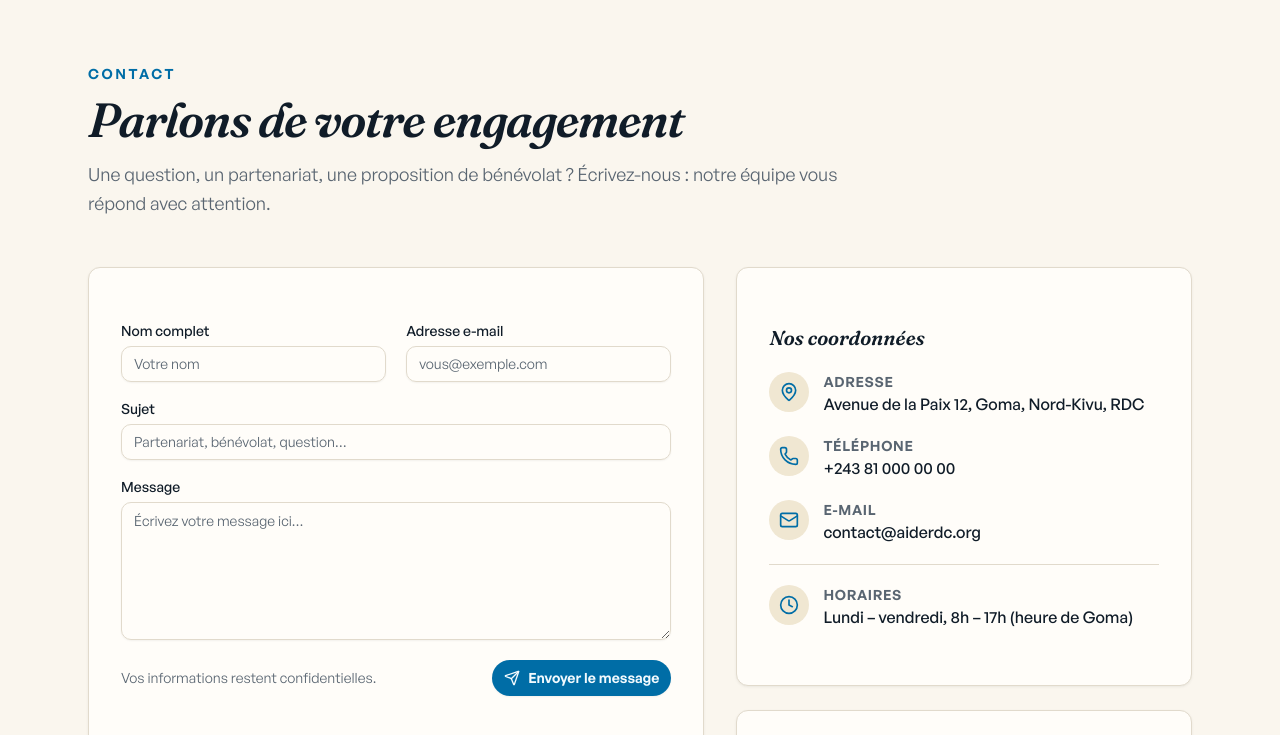
Test: ContactPage › rejects an invalid e-mail address
Type "Ada" into the field with test id "contact.name_input" at [254, 364], box [121,346,386,382]
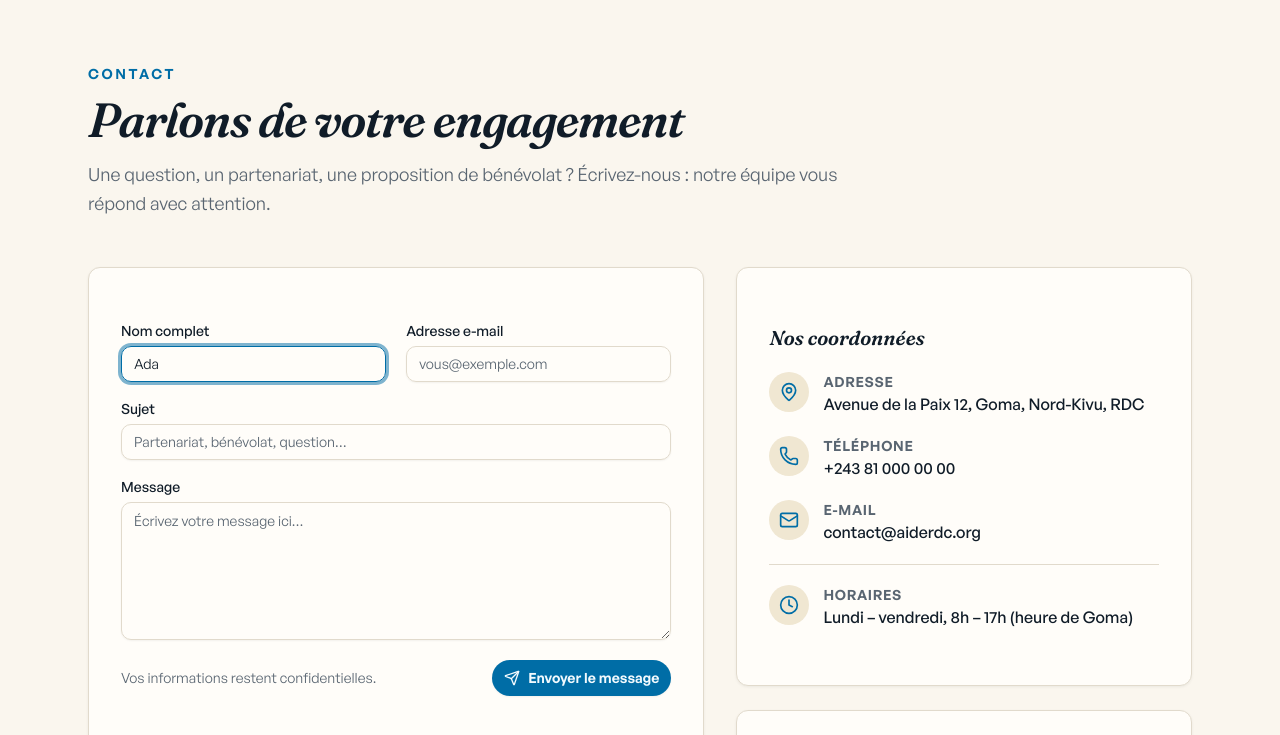
Type "not-an-email" into the field with test id "contact.email_input" at [539, 364], box [406,346,671,382]
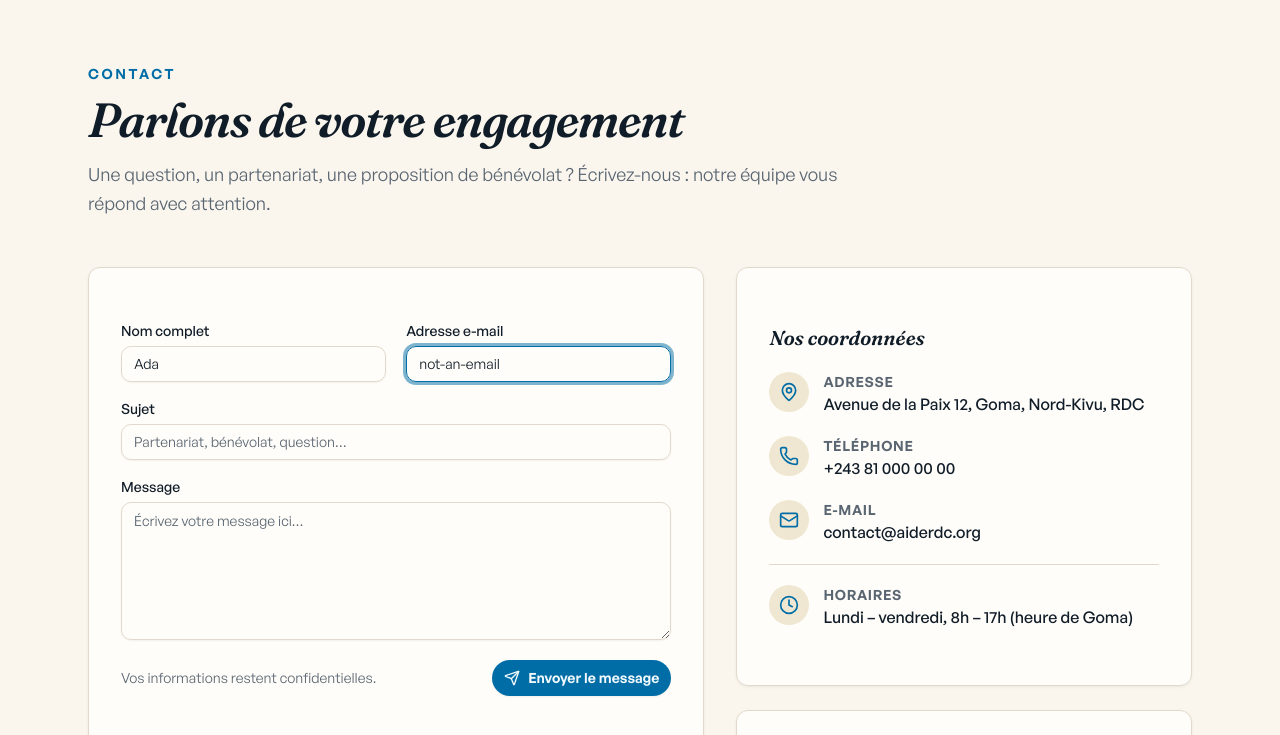
Type "Bonjour" into the field with test id "contact.subject_input" at [396, 442], box [121,424,671,460]
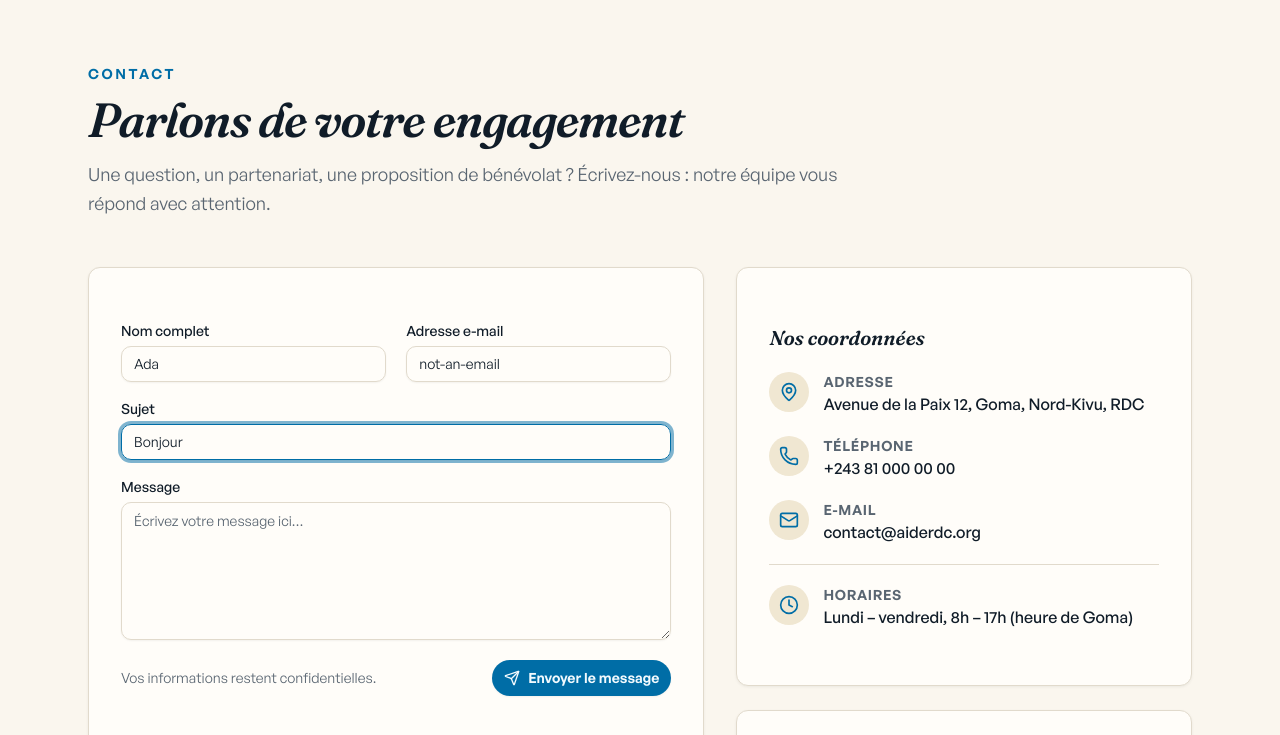
Type "Un message assez long." into the text box with test id "contact.message_textarea" at [396, 570], box [121,502,671,640]
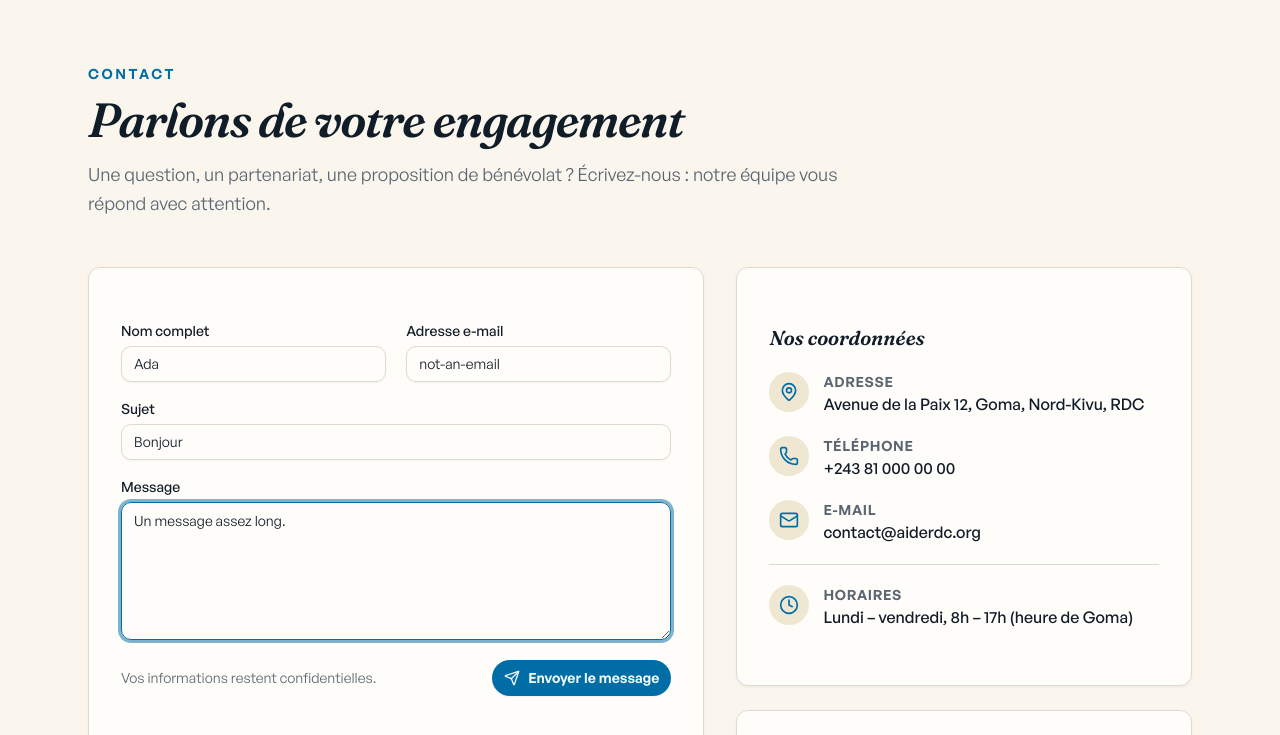
Click the button with test id "contact.submit_button" at [582, 678], box [492,660,671,696]
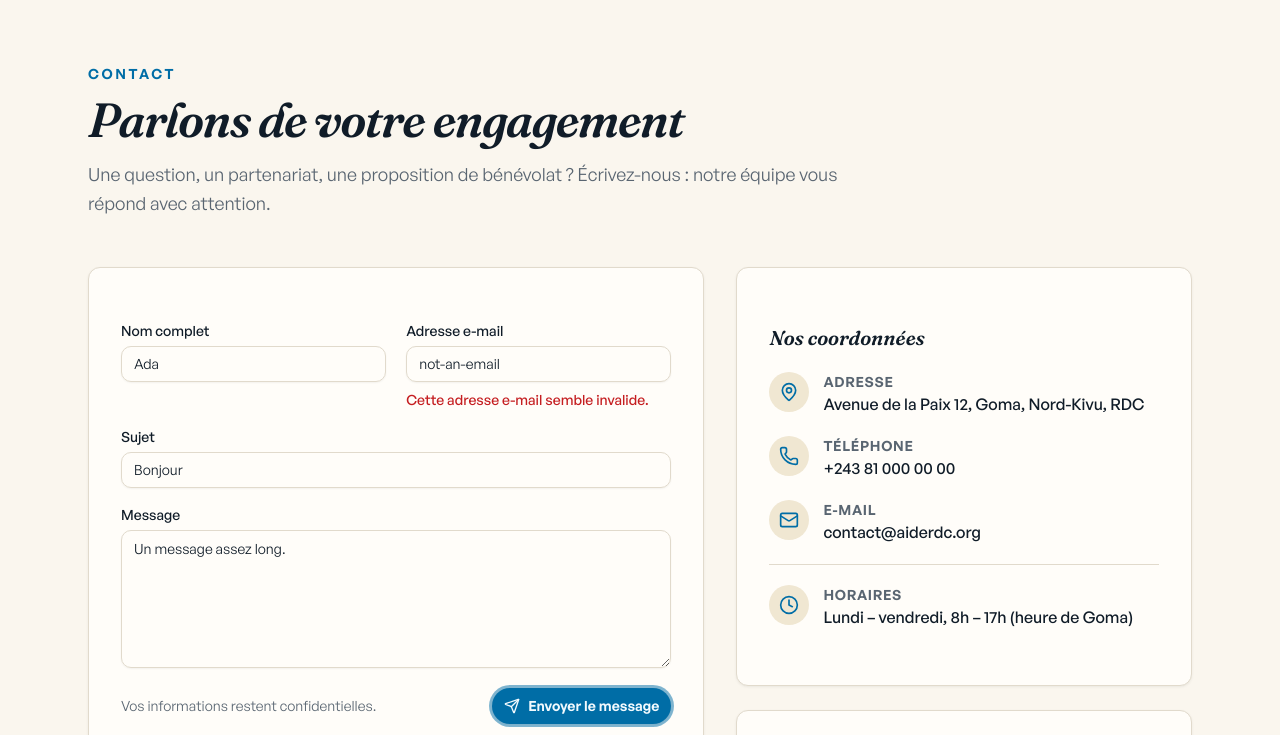
Expected: the text "Cette adresse e-mail semble invalide." is shown, [406,390,671,410]
